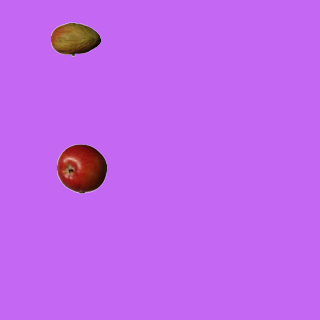Apple Braeburn: (56, 143, 106, 193)
Papaya: (50, 14, 100, 64)
